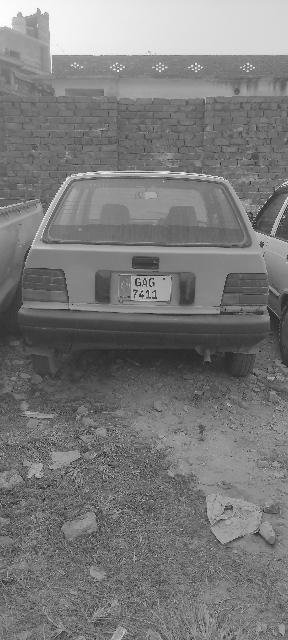Number: (130, 278, 160, 300)
